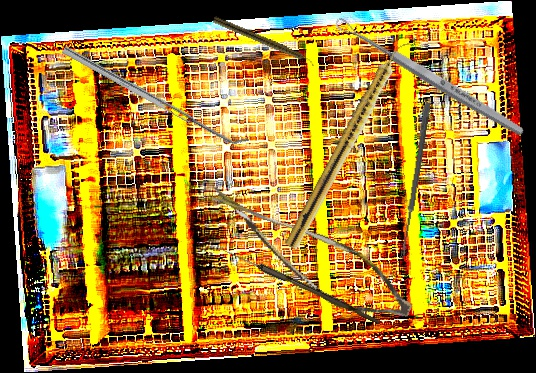Handpiece: (283, 35, 413, 253), (211, 15, 317, 68)
Micro Scissor: (189, 185, 428, 331)
Spatula Surgical: (61, 39, 250, 153)
Surgical Spoon: (332, 14, 528, 140), (214, 243, 382, 325), (399, 101, 431, 260)
